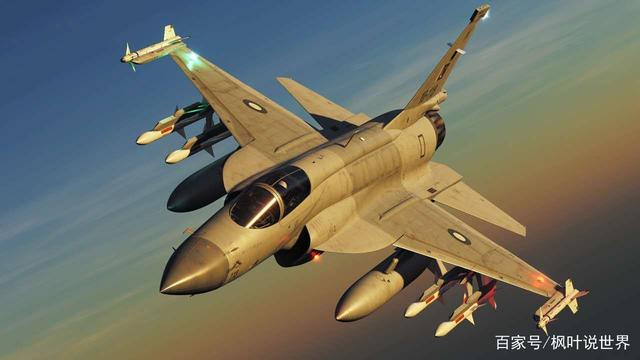airplane: (118, 5, 592, 343)
